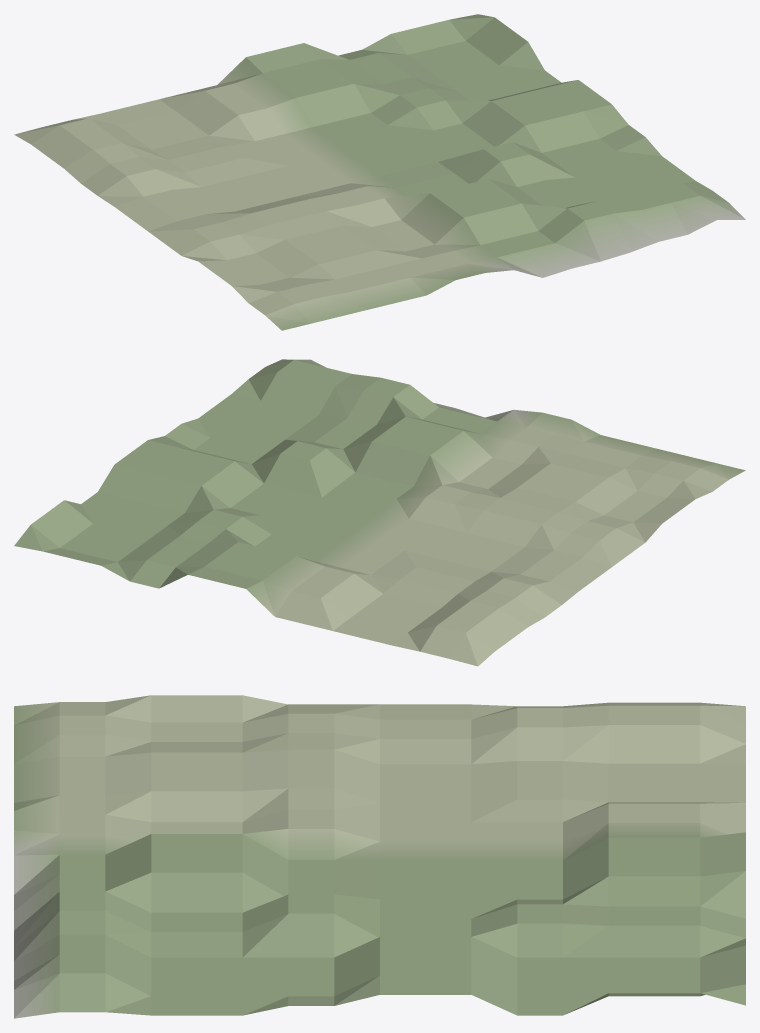
The picture shows the model from 3 angles, top to bottom: view 1: azimuth 30°, elevation 25°; view 2: azimuth 150°, elevation 25°; view 3: azimuth 270°, elevation 25°; orthographic projection. The views are drawn at different scales.
Bounding box in the file's own units: 32 × 2.1 × 32.
